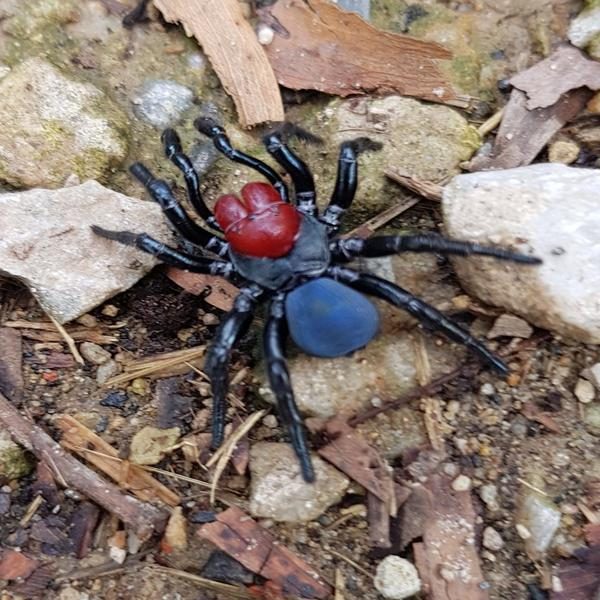Red Headed Mouse Spider: (104, 113, 525, 470)
